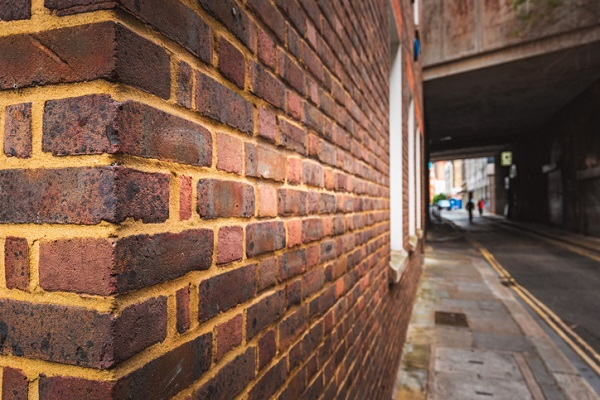Wall: (7, 7, 376, 393)
